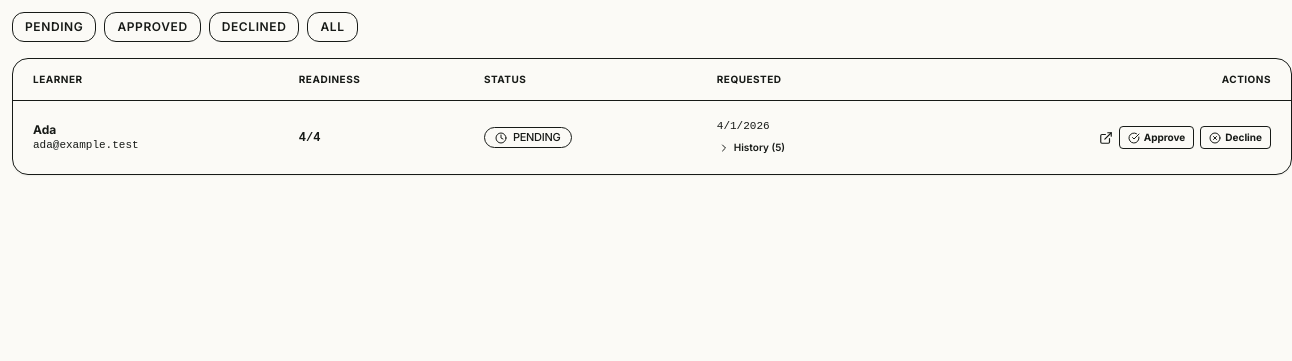
Test: Fellow request history (C4) › shows a collapsed History (n) toggle that expands to the events, oldest first
Click the button "History (5)" at x=751, y=148, box [713,138,790,158]
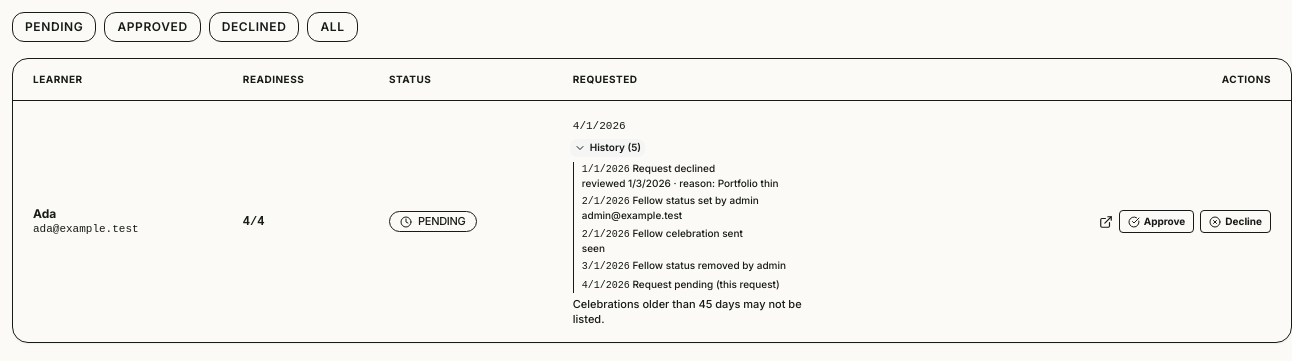
Check: the button "History (5)" is expanded, box [569,138,646,158]
Check: the number of list items is 5, box [582,162,779,189]; [582,194,759,221]; [582,227,743,254]; [582,260,786,272]; [582,278,780,291]
Check: the list item that starts with "Request declined" is shown, box [632,162,715,174]
